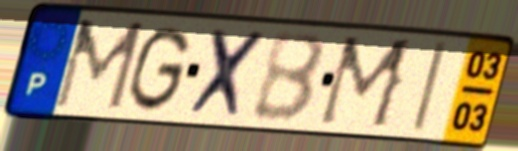B: (248, 31, 328, 126)
G: (124, 23, 193, 115)
I: (408, 39, 451, 135)
M: (313, 34, 418, 133), (50, 16, 149, 114)
X: (184, 25, 273, 123)
